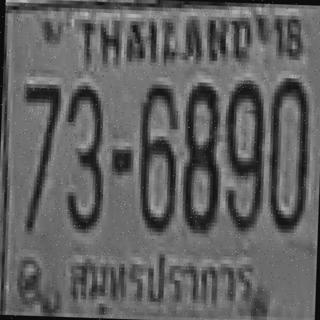N00: (264, 74, 310, 230)
N03: (60, 81, 105, 230)
N06: (135, 80, 178, 228)
N07: (18, 80, 60, 224), (18, 82, 60, 208), (19, 81, 60, 193), (20, 82, 60, 178), (20, 80, 60, 169)
N08: (180, 82, 220, 230)
N09: (222, 78, 264, 230)
P57: (64, 242, 258, 312)
